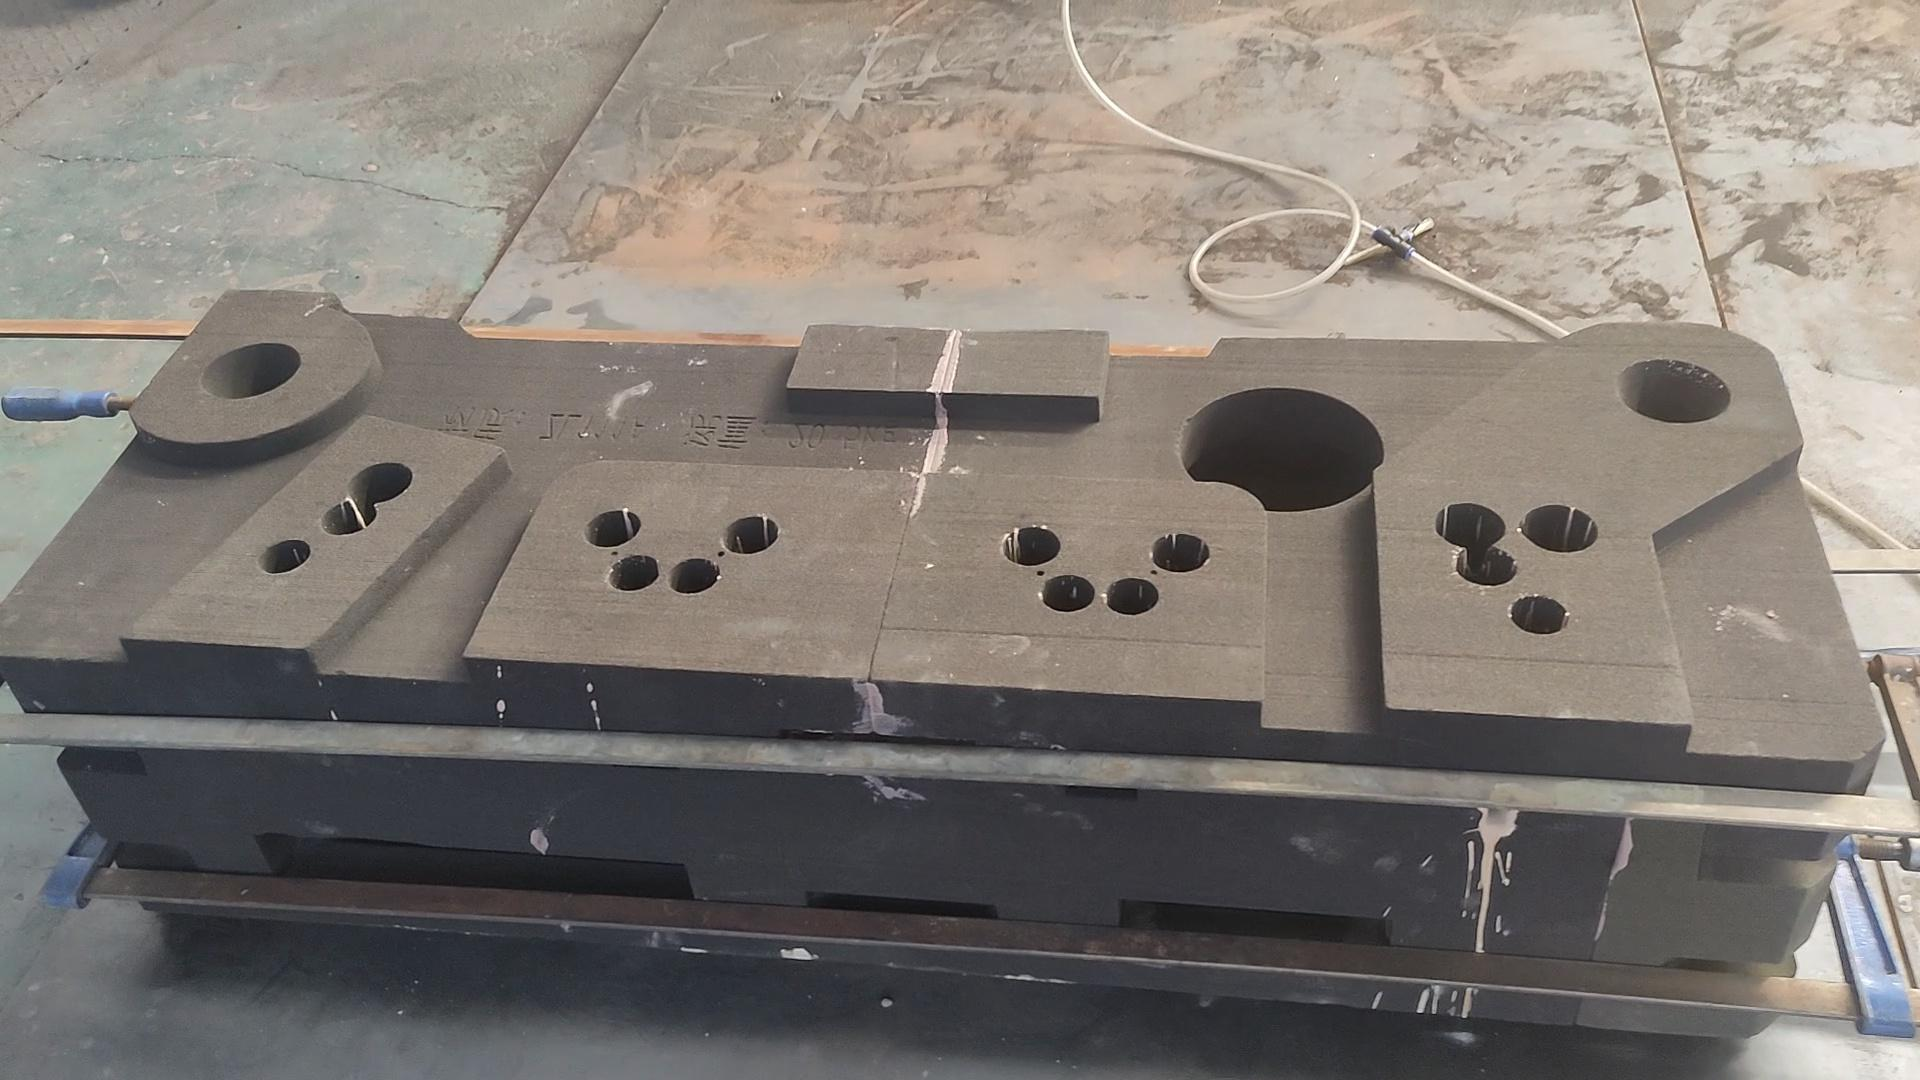pouring hole: (1618, 357, 1731, 425), (199, 342, 302, 400)
